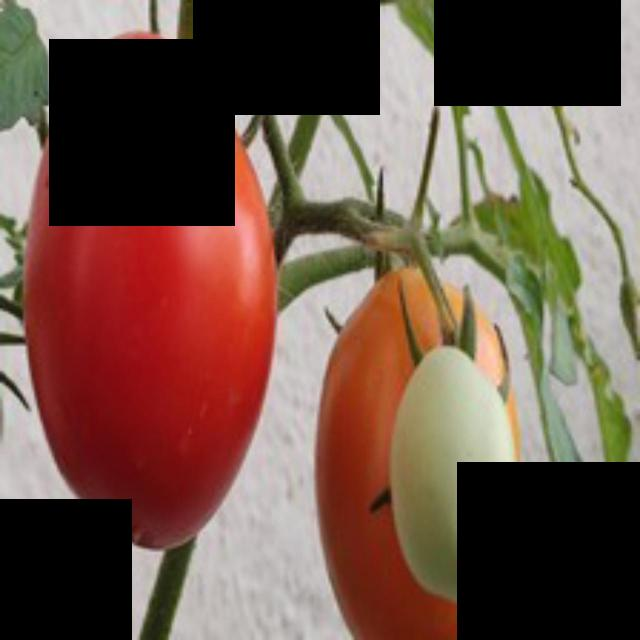tomato: (27, 28, 282, 555)
